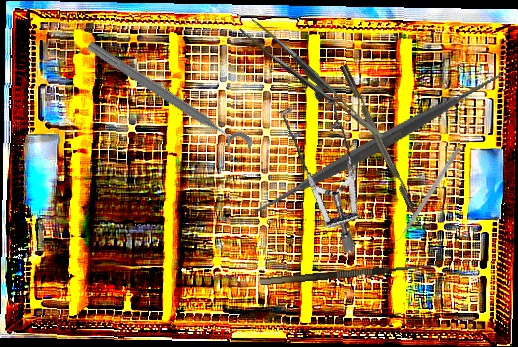Chopper: (340, 60, 432, 233), (388, 143, 461, 248)
Fixation Ring: (77, 36, 256, 167)
Hook Surgical: (259, 252, 442, 286)
Spatula Surgical: (239, 3, 515, 284)
Speculum: (245, 81, 395, 255)
Tissue Forceps: (239, 5, 383, 160)
